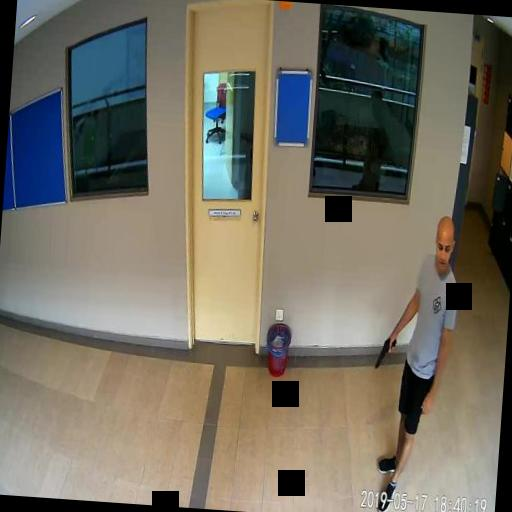Handgun: (374, 336, 396, 368)
